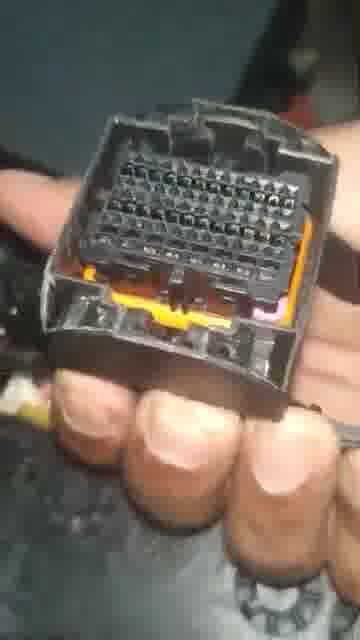connector: (37, 94, 341, 408)
